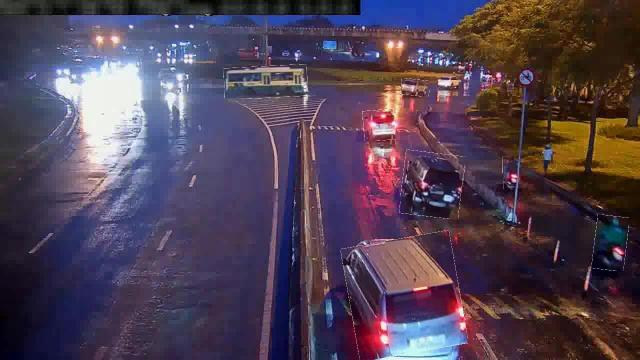Bike: (592, 216, 628, 270), (504, 156, 518, 190)
Bus: (224, 66, 308, 98)
Car: (344, 234, 464, 358), (401, 152, 464, 218), (363, 109, 395, 140), (400, 80, 430, 96)
